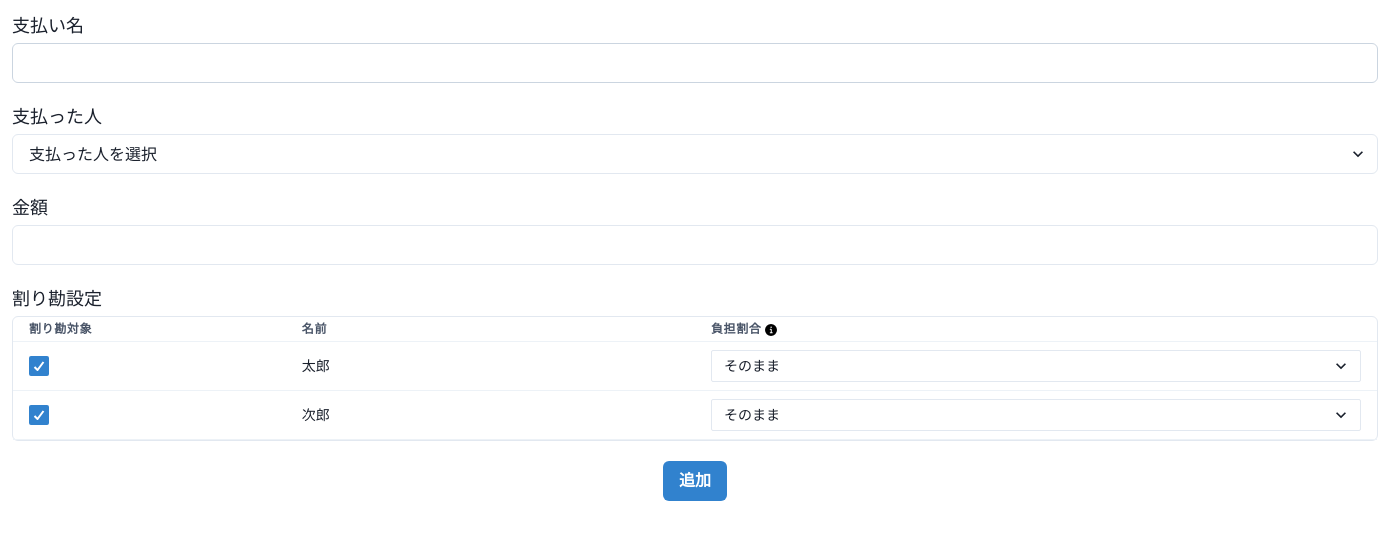
割り勘対象が0人で支払い追加しようとすると、エラーメッセージ"割り勘対象がいません。"が表示される
The image size is (1390, 542).
Type "ガソリン代" into the field labelled "支払い名".
click(695, 63); type("ガソリン代")  # box [12, 43, 1378, 83]
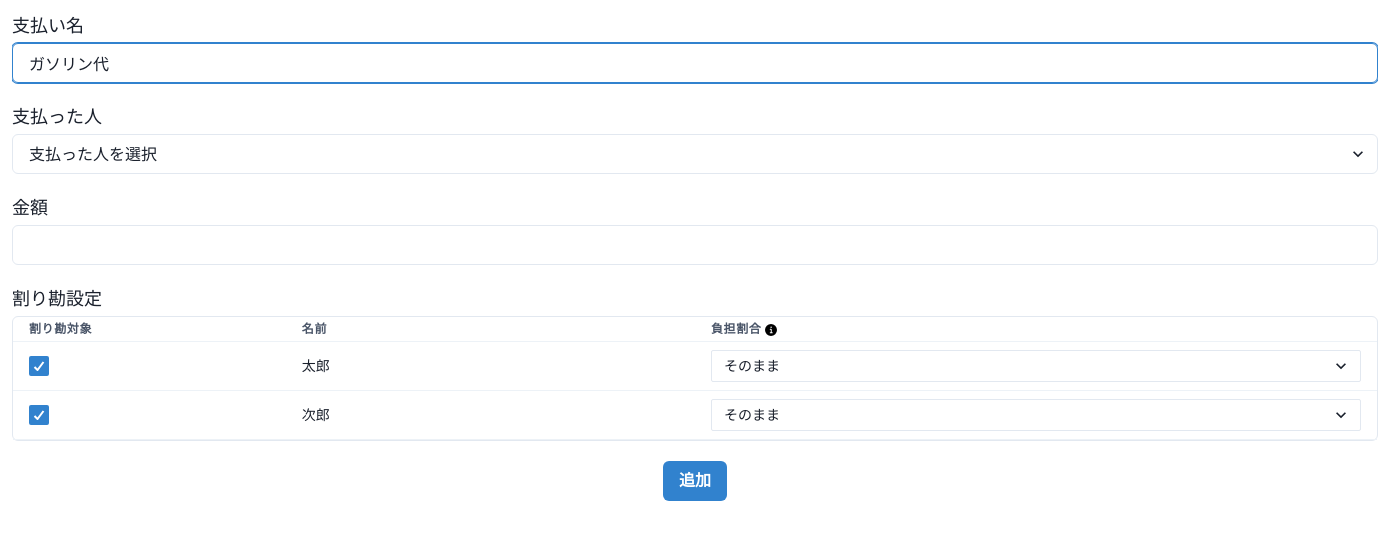
Type "6000" into the field labelled "金額".
click(695, 245); type("6000")  # box [12, 225, 1378, 265]
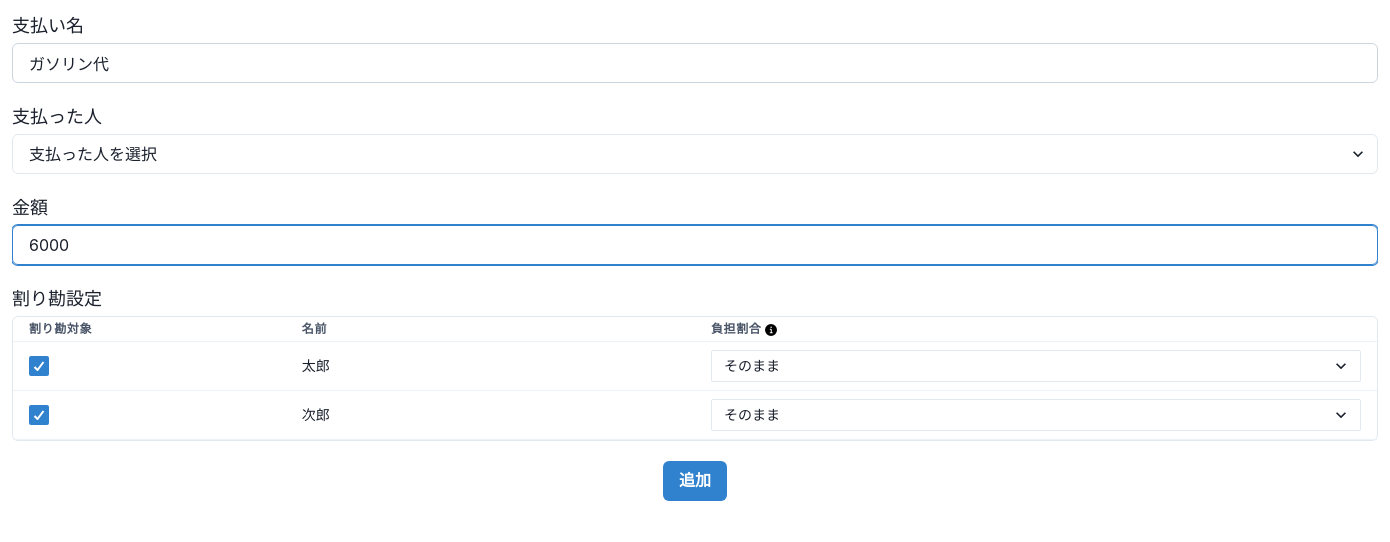
Select "太郎" in the dropdown labelled "支払った人" at (695, 154), box [12, 134, 1378, 174]
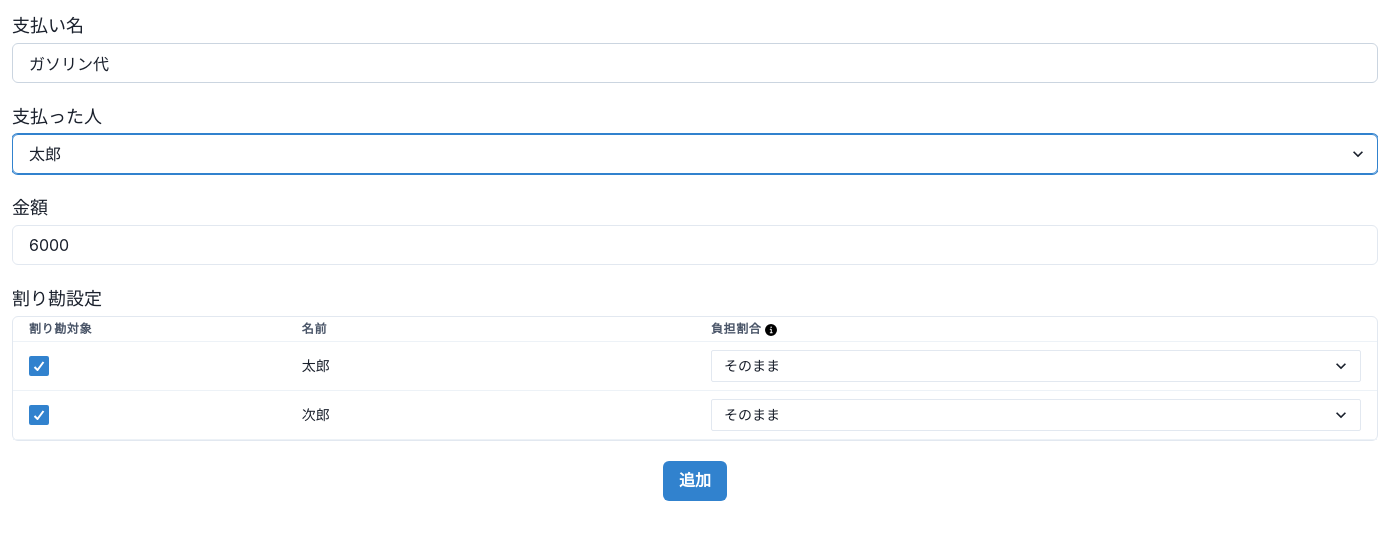
Click the 1st checkbox labelled "割り勘設定".
click(57, 298)  # box [12, 288, 102, 309]
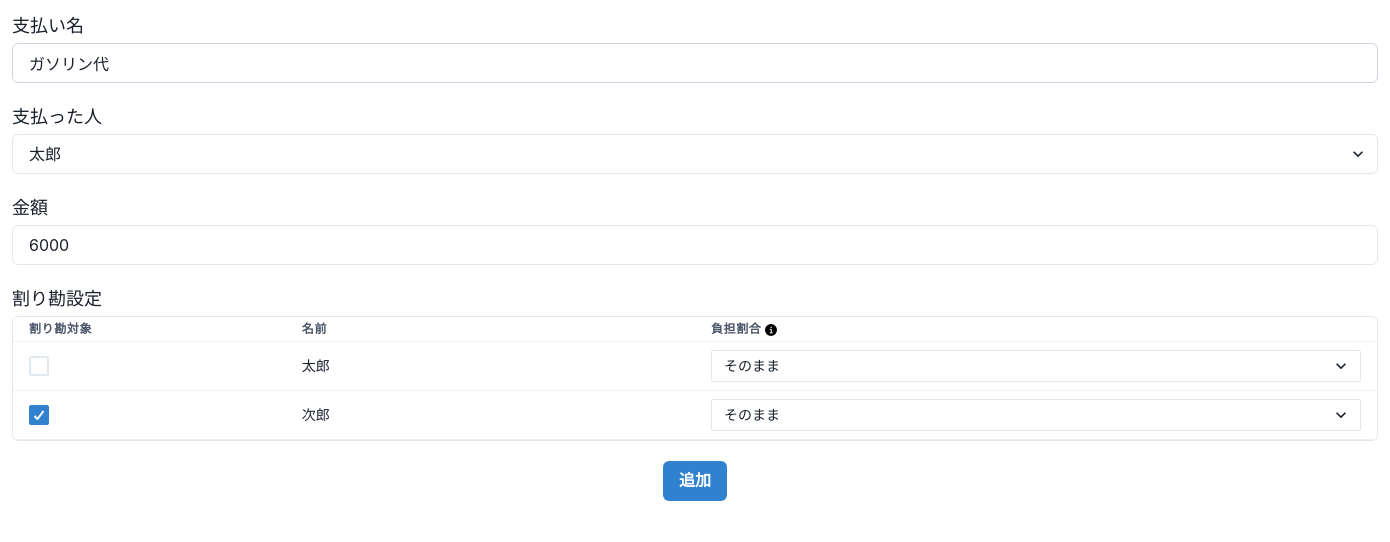
Click the checkbox in the row of "次郎".
click(39, 415)  # box [29, 405, 49, 425]
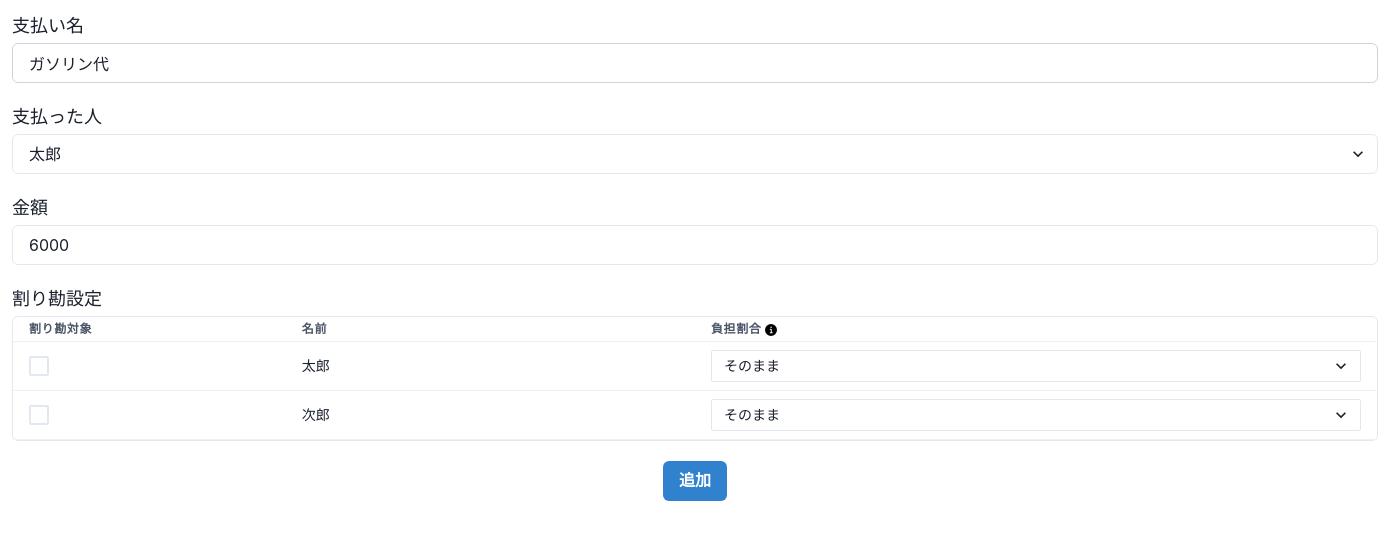
Click the button "追加".
click(695, 481)  # box [663, 461, 727, 501]
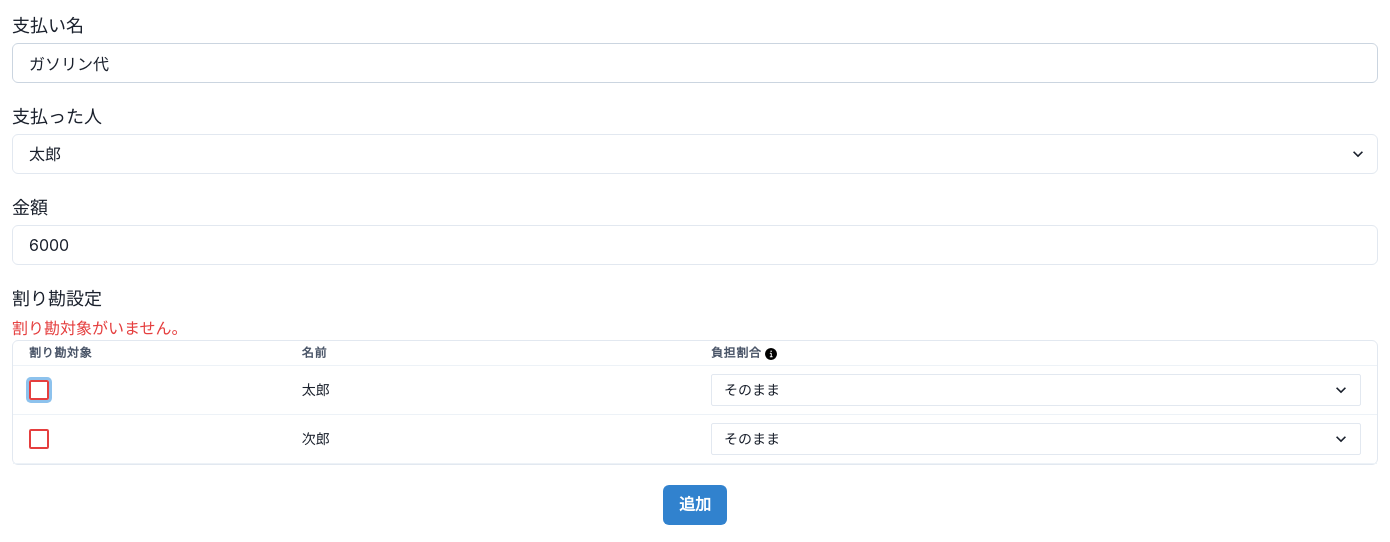
expect the text "割り勘対象がいません。" is shown: met, box [12, 318, 188, 338]
